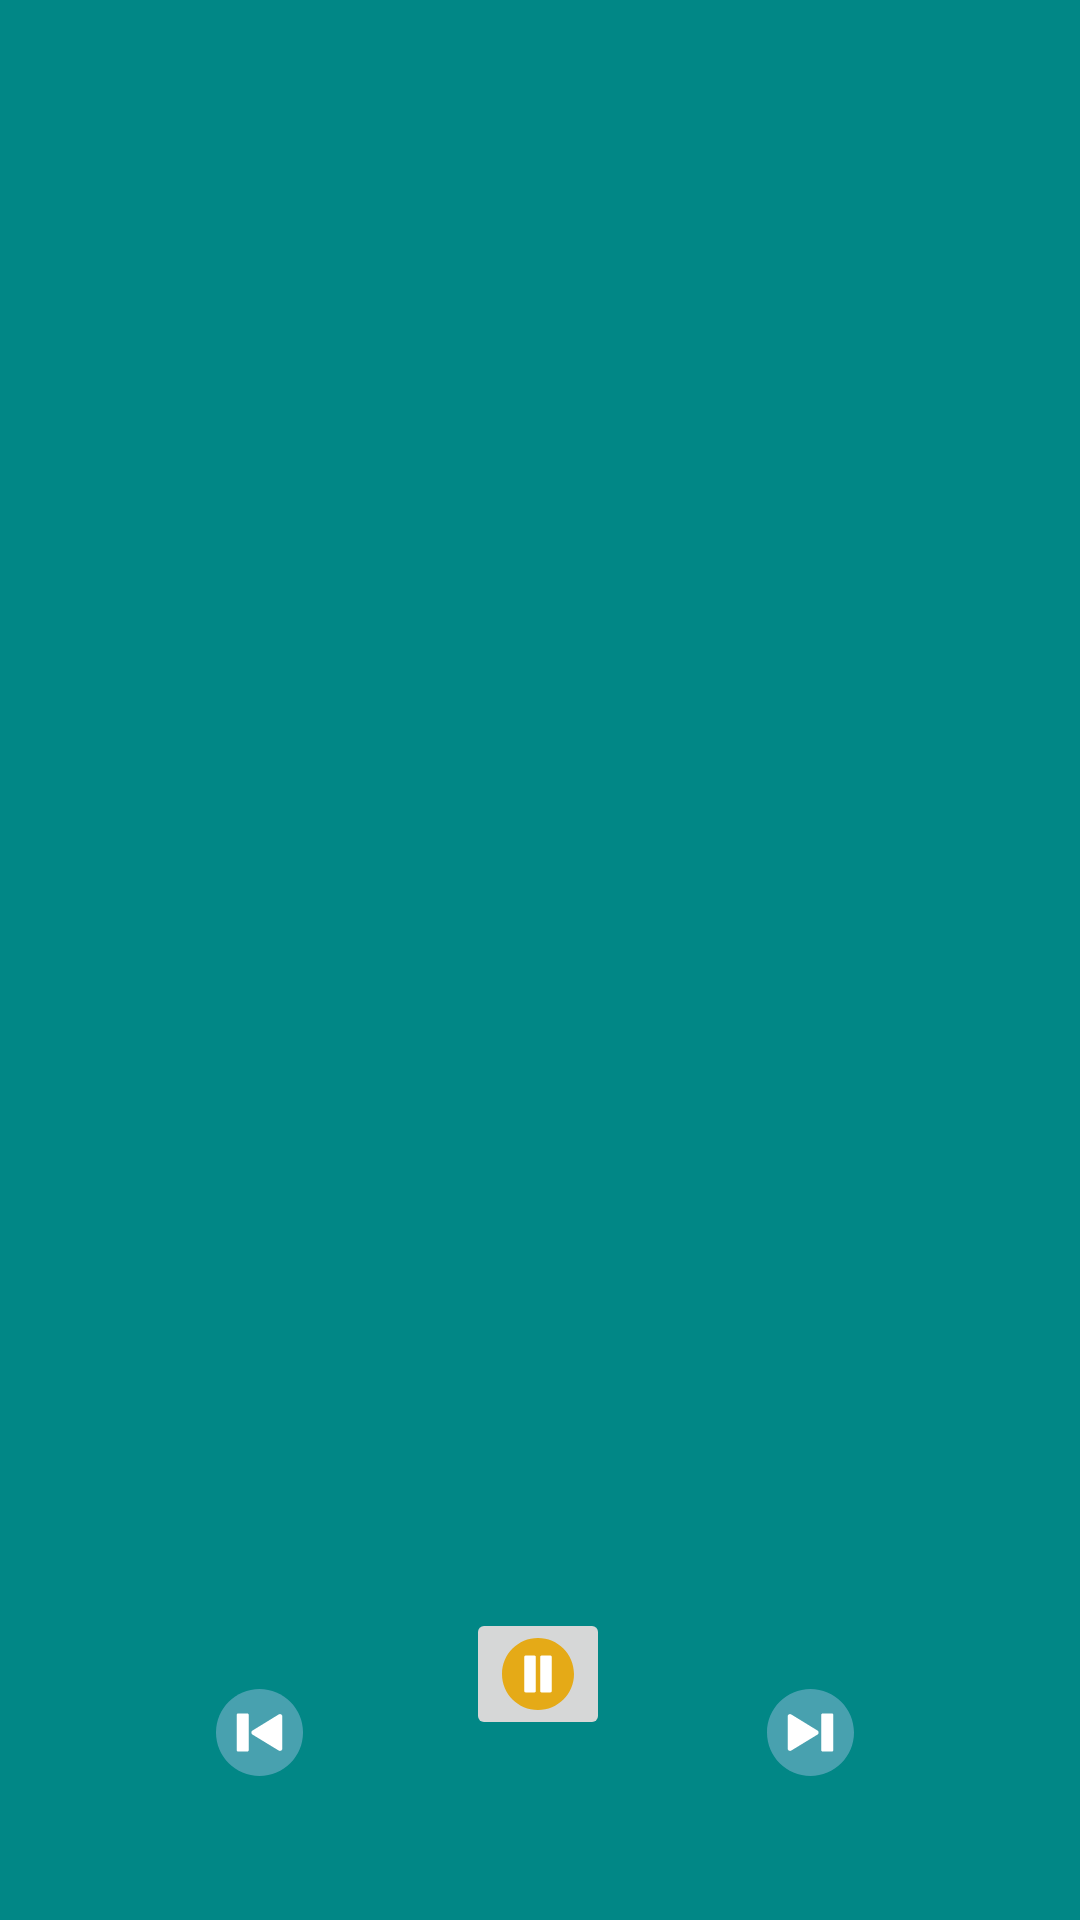

Where icons sit on this 1080w x 1920h app screen, as BBox(x1, y1, x2, y2):
back: BBox(216, 1689, 303, 1776)
next: BBox(767, 1689, 854, 1776)
pause: BBox(478, 1626, 598, 1722)
